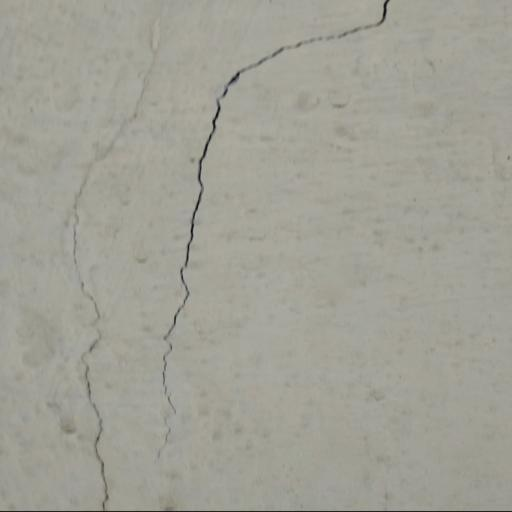major_crack: (144, 0, 424, 461), (46, 25, 165, 512)
